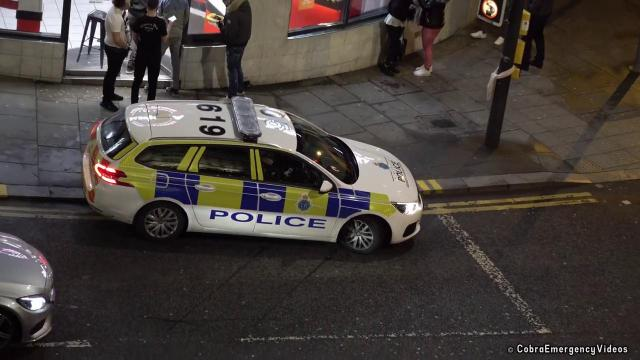police: (84, 93, 425, 253)
